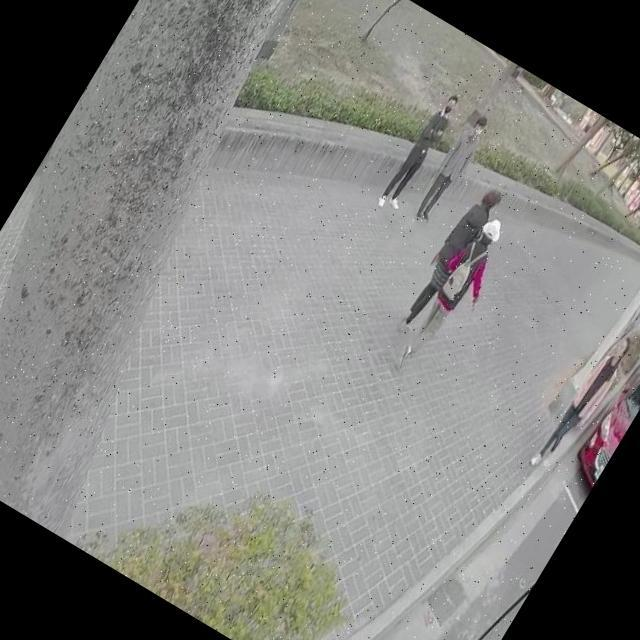person: (386, 210, 508, 381), (391, 184, 498, 336), (530, 330, 636, 480), (378, 88, 464, 214), (411, 110, 493, 227)
